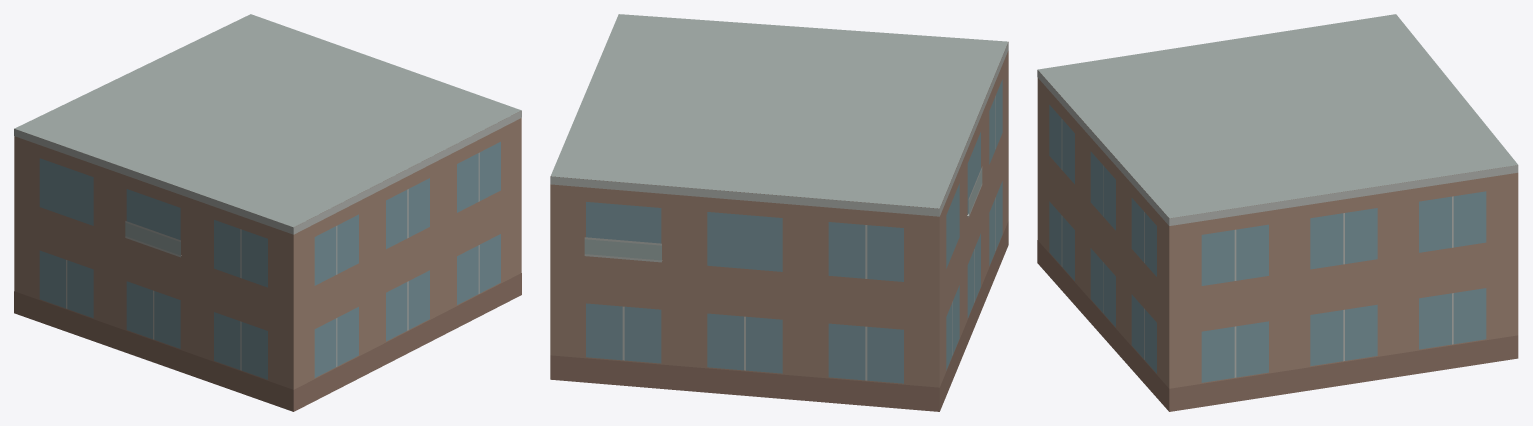
The model's file is survey-upis-32777377.glb.
3 renders of one model, left to right at view 1: azimuth 30°, elevation 25°; view 2: azimuth 150°, elevation 25°; view 3: azimuth 270°, elevation 25°, orthographic. The views are drawn at different scales.
Parts seen in each view (by area): view 1: survey-upis-32777377.tmp; view 2: survey-upis-32777377.tmp; view 3: survey-upis-32777377.tmp.
Boxes of the visible parts, left/top/right/bottom form: survey-upis-32777377.tmp: left=14, top=14, right=521, bottom=411; survey-upis-32777377.tmp: left=550, top=14, right=1008, bottom=411; survey-upis-32777377.tmp: left=1037, top=14, right=1518, bottom=411.
Size of the model in its own units: 13.83 by 6.1 by 13.75.
